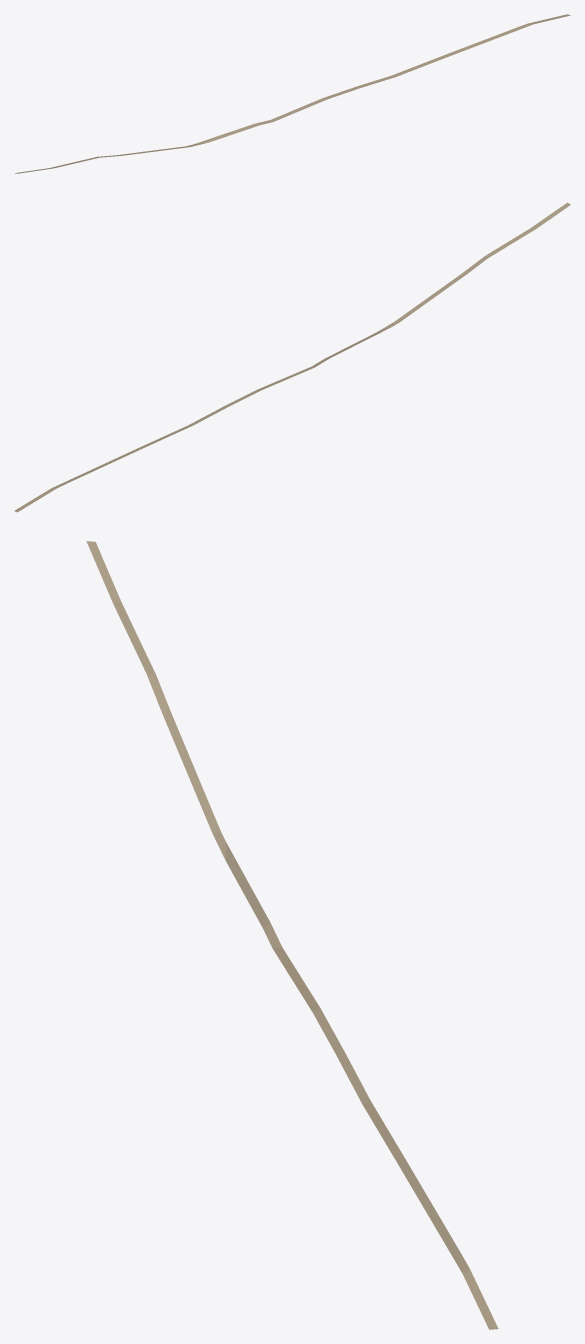
Rendered from farm_-28_-29_track.glb.
The picture shows the model from 3 angles, top to bottom: view 1: azimuth 30°, elevation 25°; view 2: azimuth 210°, elevation 25°; view 3: azimuth 270°, elevation 25°; orthographic projection. The views are drawn at different scales.
Visible parts, largest first — view 1: geometry_0; view 2: geometry_0; view 3: geometry_0.
Part boxes in pixels (<box>): geometry_0: <box>15,14,570,173</box>; geometry_0: <box>14,202,570,512</box>; geometry_0: <box>86,541,498,1329</box>.
Bounding box in the file's own units: 511 × 56.08 × 139.
